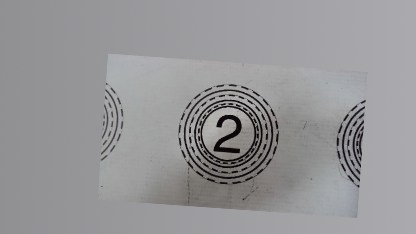2r: (172, 80, 282, 188)
